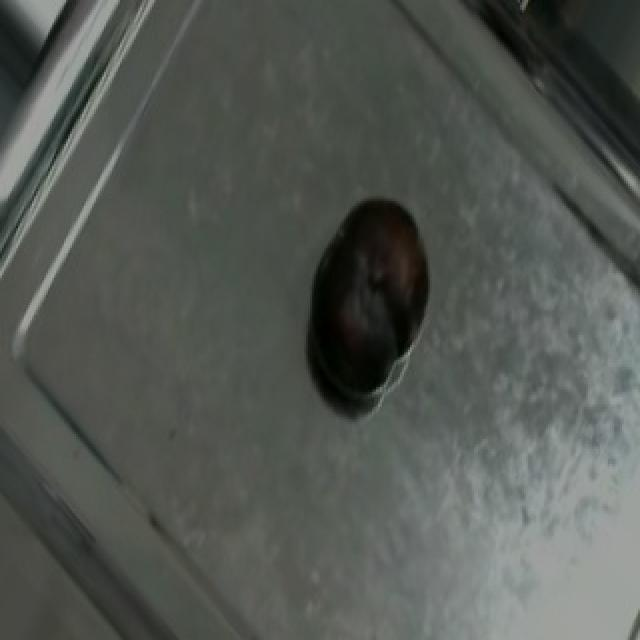Fruit: (292, 179, 452, 392)
